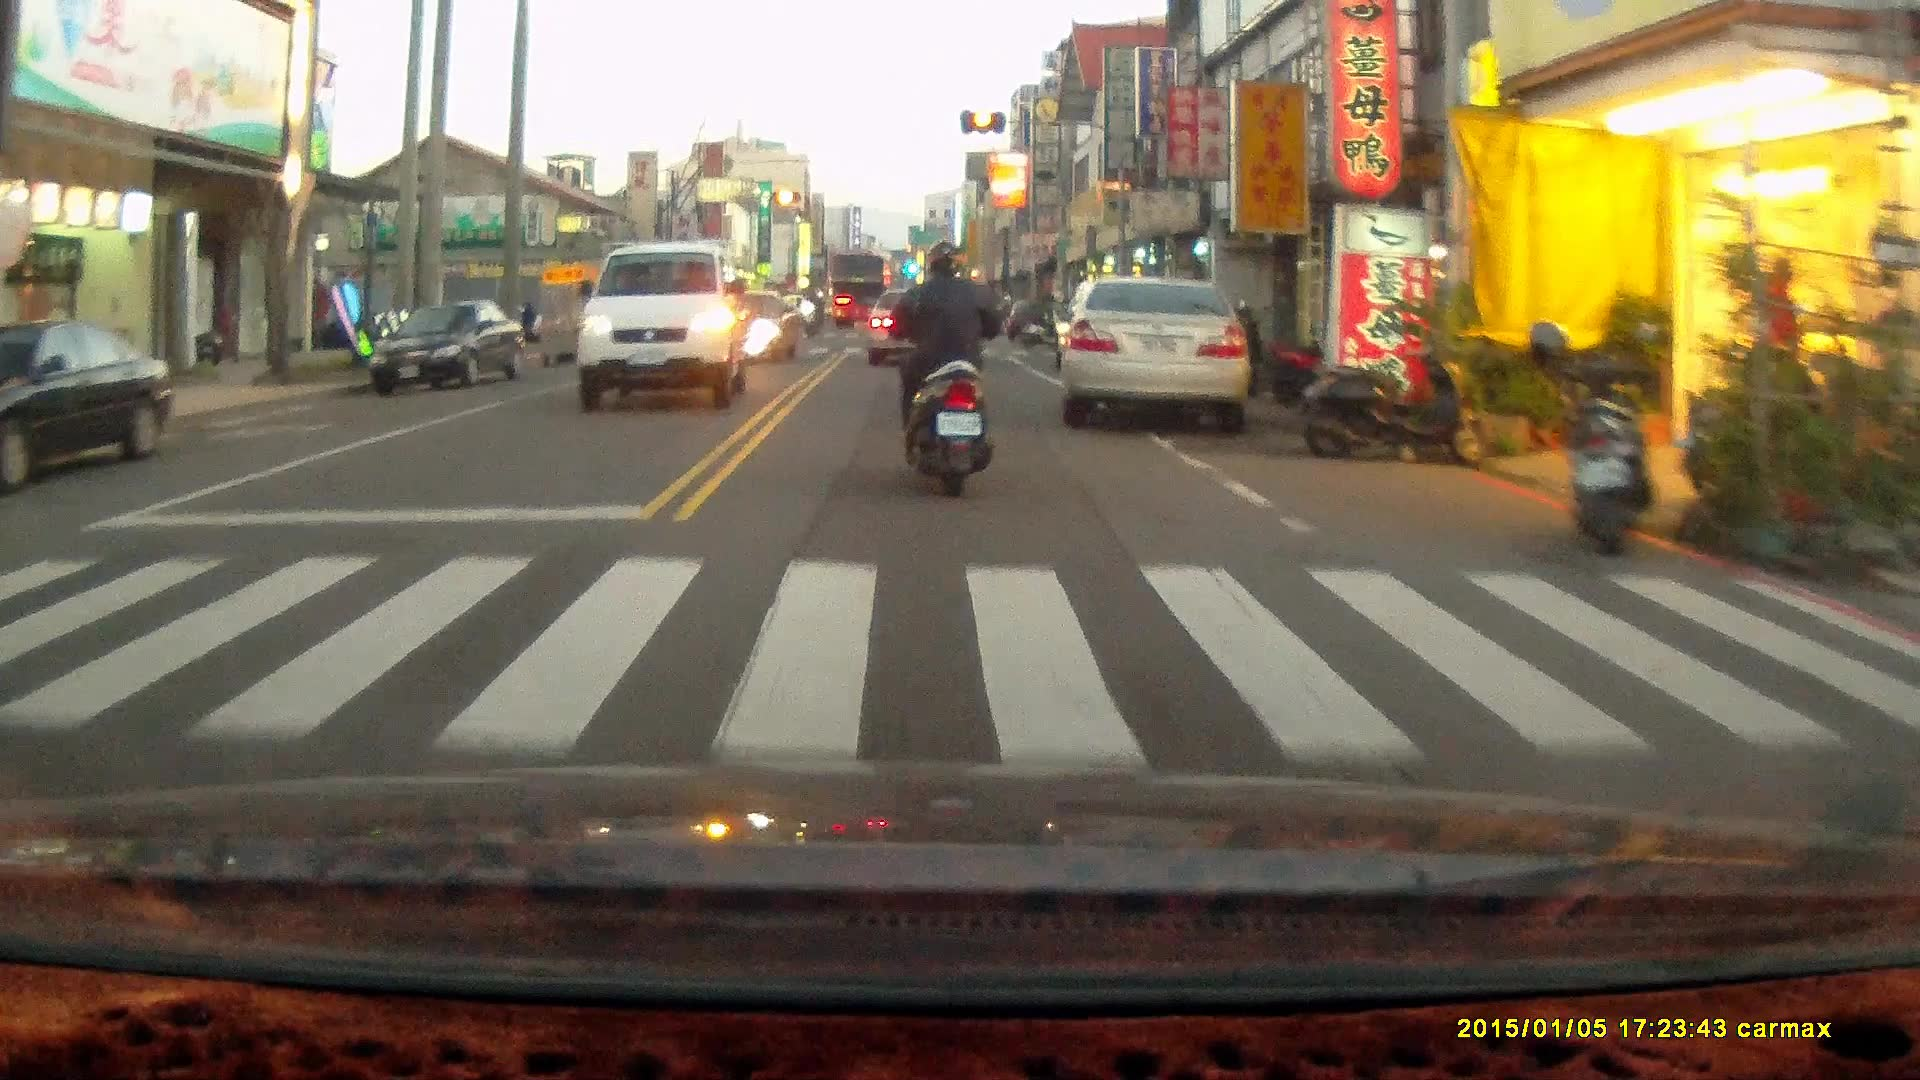pedestrian: (1758, 253, 1802, 400)
rider: (883, 240, 1005, 502)
vehicle: (1, 317, 177, 499), (578, 239, 745, 418), (1059, 275, 1253, 426), (368, 297, 525, 401), (862, 282, 962, 361)
